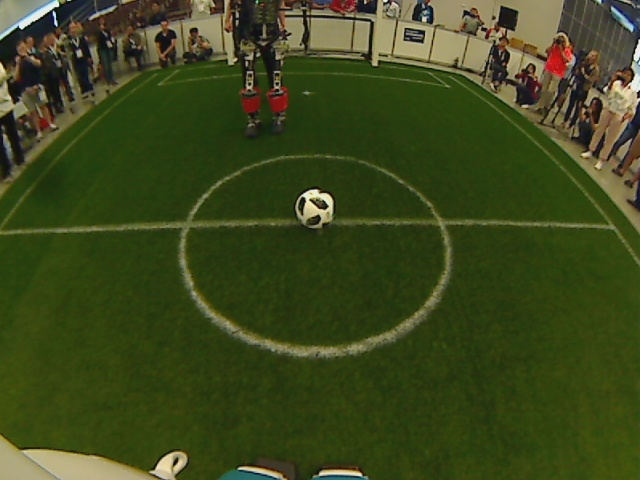ball: (292, 184, 340, 232)
